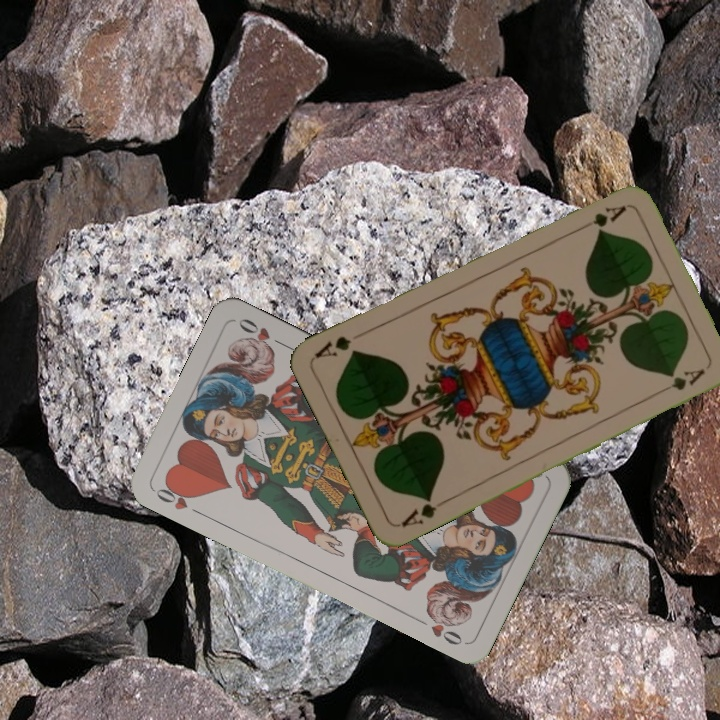GA: (397, 492, 449, 530), (573, 201, 629, 234)
HO: (151, 478, 205, 518)
